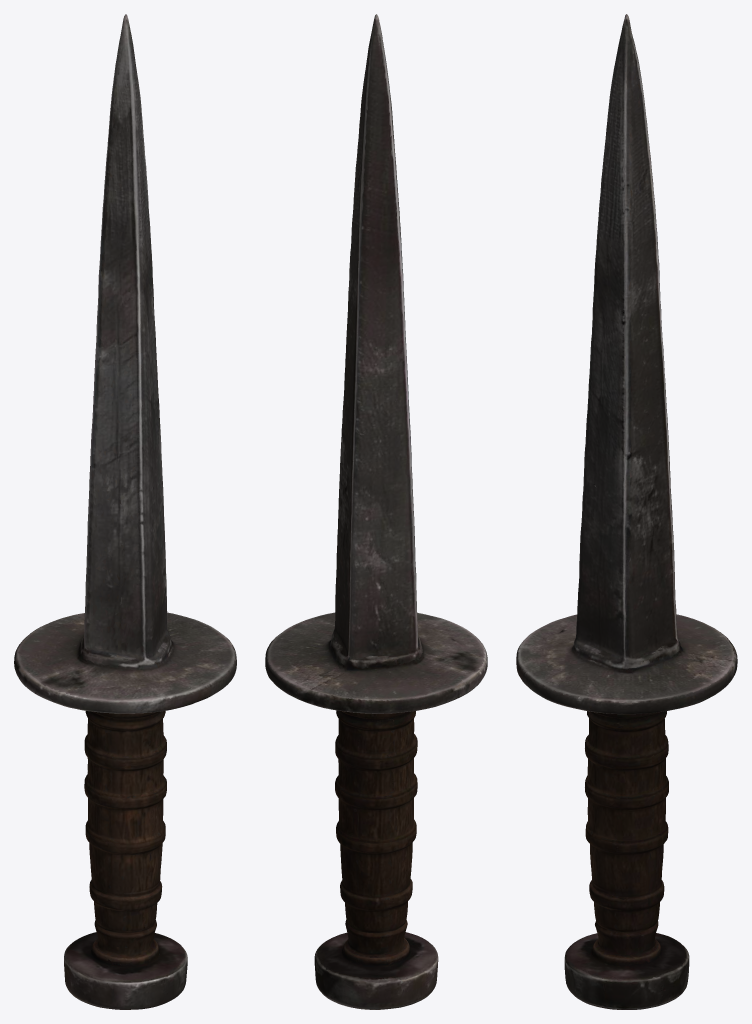
Rendered from dagger.glb.
3 renders of one model, left to right at view 1: azimuth 30°, elevation 25°; view 2: azimuth 150°, elevation 25°; view 3: azimuth 270°, elevation 25°, orthographic.
Parts seen in each view (by area): view 1: world; view 2: world; view 3: world.
Part boxes in pixels (bbox=[...]): world: bbox=[14, 14, 236, 1009]; world: bbox=[265, 14, 487, 1009]; world: bbox=[516, 14, 737, 1009].
Bounding box in the file's own units: 0.4127 × 1.99 × 0.41.
1 material, 1 textured.
